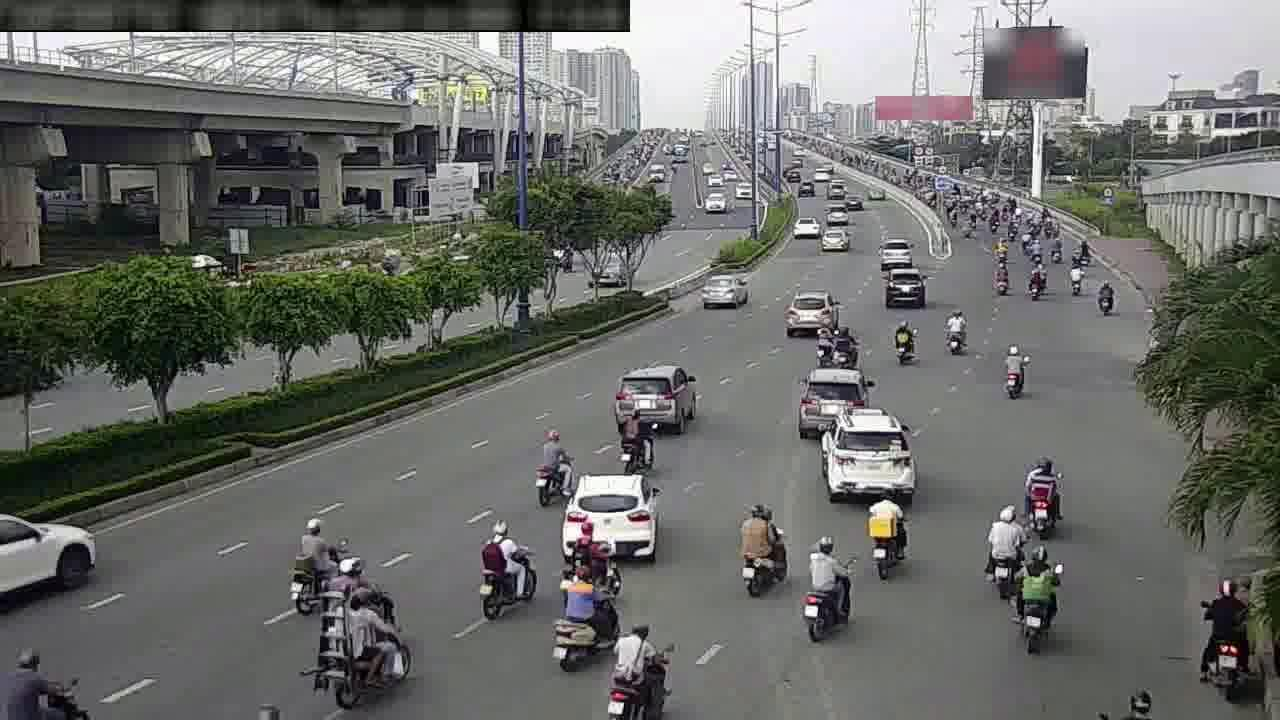car: (4, 505, 104, 618), (824, 409, 915, 496), (563, 475, 658, 555), (795, 360, 876, 430), (609, 367, 698, 430), (778, 286, 834, 337), (695, 267, 754, 314), (882, 264, 930, 309)
motorbike: (327, 587, 419, 704), (1197, 568, 1257, 700), (4, 626, 85, 720), (467, 515, 540, 618), (550, 561, 620, 666), (605, 617, 680, 709), (731, 497, 792, 592), (1005, 545, 1065, 641), (282, 529, 346, 618), (795, 539, 855, 630), (978, 502, 1030, 587), (527, 426, 580, 506), (858, 487, 912, 565), (1017, 455, 1067, 531), (571, 521, 621, 594), (613, 405, 656, 470), (883, 314, 923, 369), (995, 344, 1032, 400), (936, 305, 973, 358), (1088, 273, 1121, 318), (1062, 261, 1089, 301), (988, 259, 1014, 297), (835, 323, 855, 366), (815, 324, 835, 366), (1025, 265, 1044, 305)
